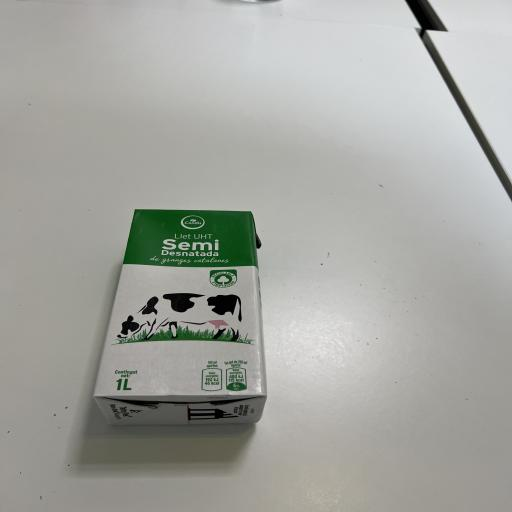almond_milk: (76, 198, 305, 424)
